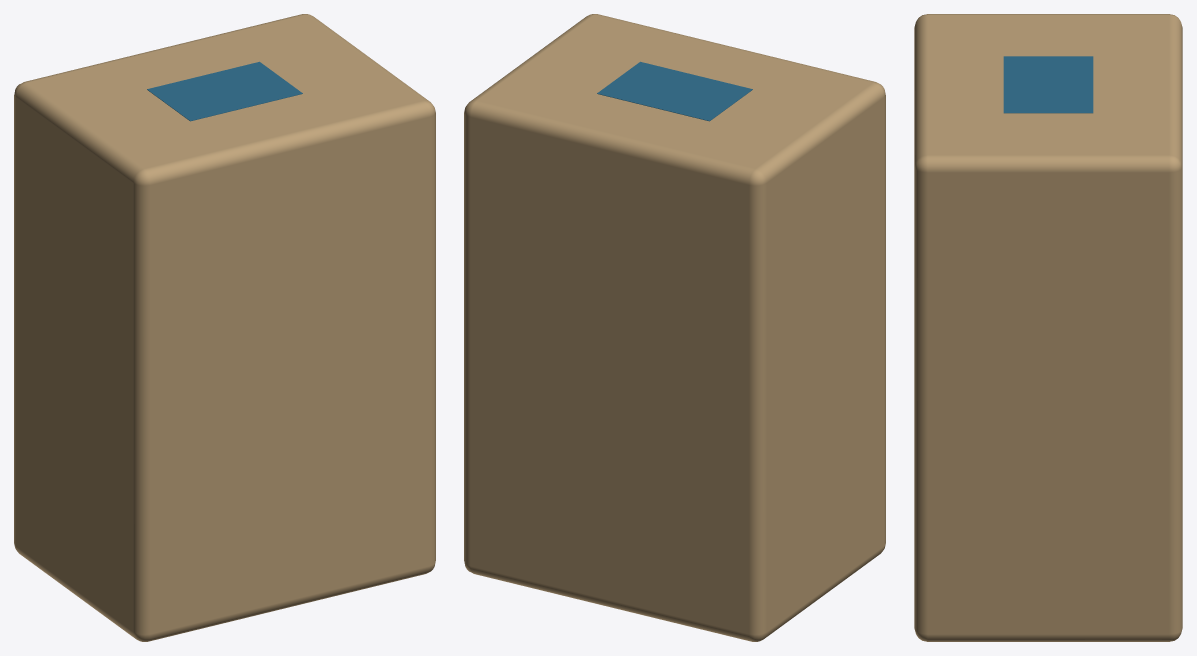
The model's file is paper.glb.
3 views of the same model, side by side, from view 1: azimuth 30°, elevation 25°; view 2: azimuth 150°, elevation 25°; view 3: azimuth 270°, elevation 25° (orthographic). The views are drawn at different scales.
Parts seen in each view (by area): view 1: IndividualProduct, ProductMark; view 2: IndividualProduct, ProductMark; view 3: IndividualProduct, ProductMark.
Boxes of the visible parts, box(x1,y1,x2,y2) form: IndividualProduct: box(14, 14, 435, 641); ProductMark: box(147, 61, 302, 121); IndividualProduct: box(464, 14, 885, 641); ProductMark: box(597, 61, 752, 121); IndividualProduct: box(914, 14, 1182, 641); ProductMark: box(1003, 56, 1093, 113).
Size of the model in its own units: 0.08 by 0.1201 by 0.06.
